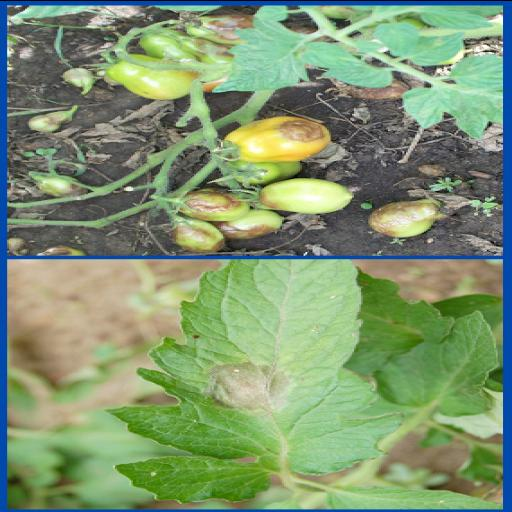disease_tomato: (115, 259, 411, 499)
